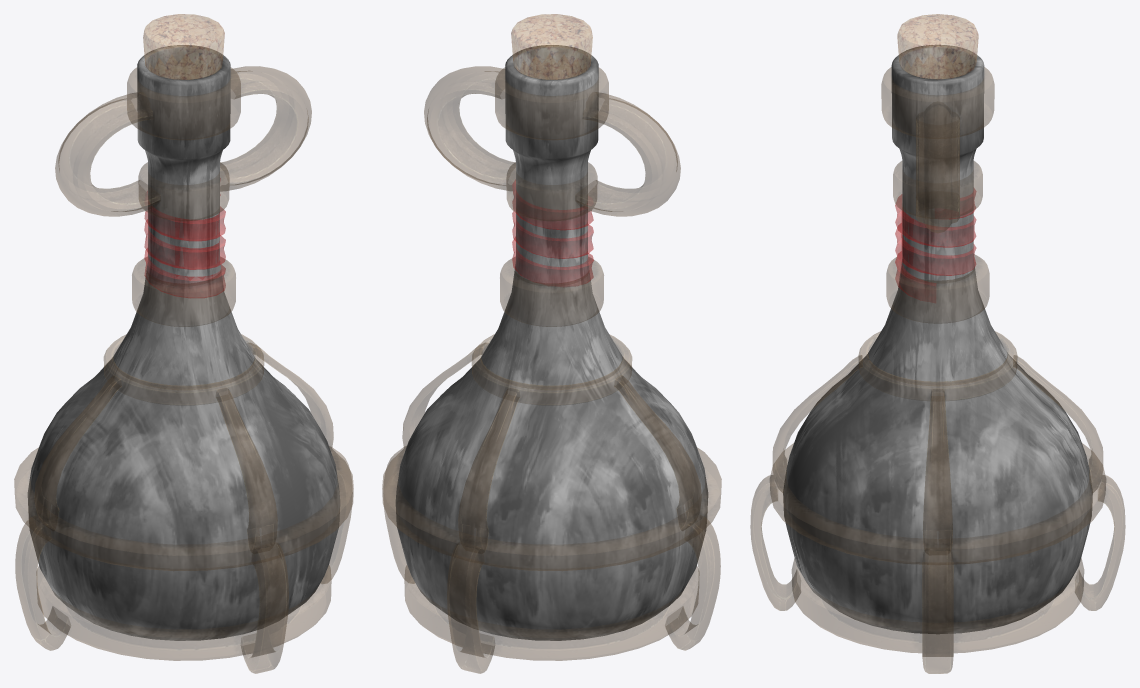
The picture shows the model from 3 angles, left to right: view 1: azimuth 30°, elevation 25°; view 2: azimuth 150°, elevation 25°; view 3: azimuth 270°, elevation 25°; orthographic projection.
Parts seen in each view (by area): view 1: Glass, Potion; view 2: Glass, Potion; view 3: Glass, Potion.
Boxes of the visible parts, left/top/right/bottom form: Glass: left=27, top=45, right=340, bottom=640; Potion: left=14, top=14, right=353, bottom=673; Glass: left=395, top=45, right=708, bottom=640; Potion: left=382, top=14, right=721, bottom=673; Glass: left=783, top=44, right=1092, bottom=633; Potion: left=750, top=14, right=1125, bottom=673.
Size of the model in its own units: 26.6 by 45.51 by 26.6.
